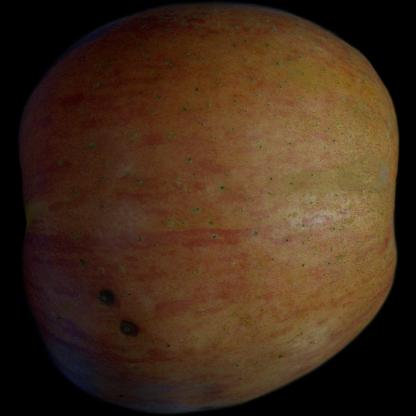defect: (86, 278, 150, 350)
